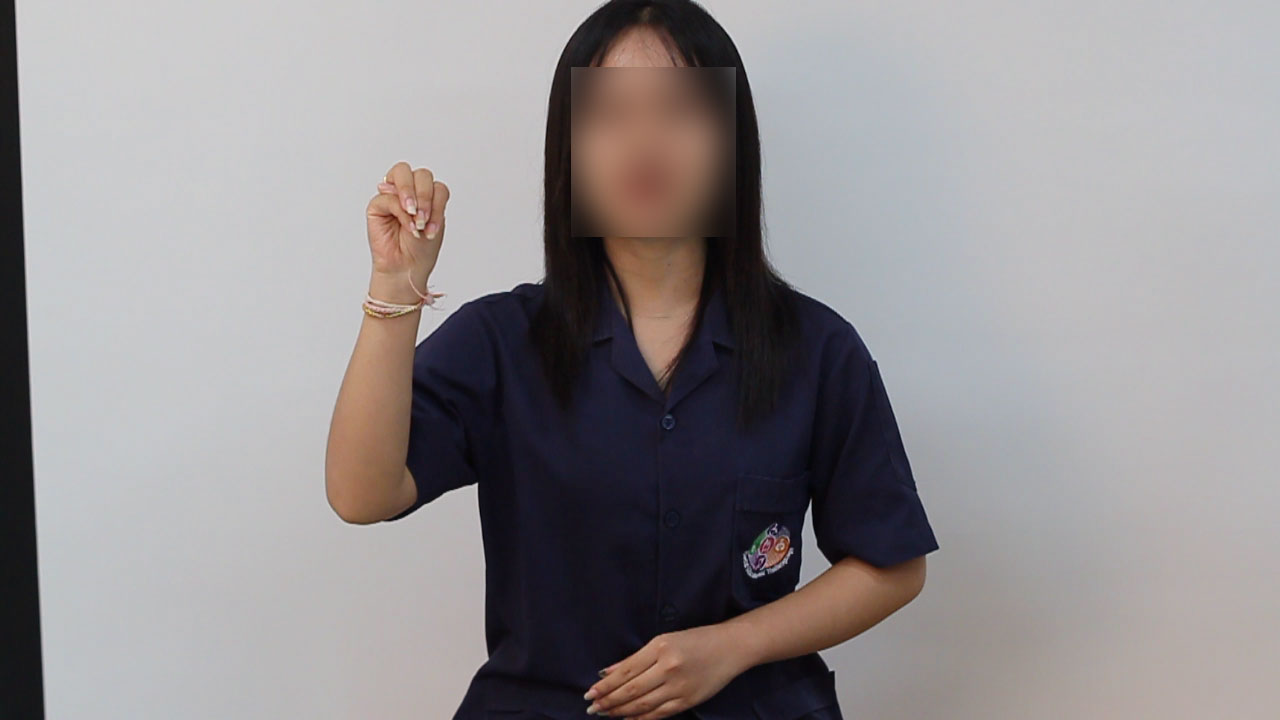mor: (356, 153, 460, 288)
